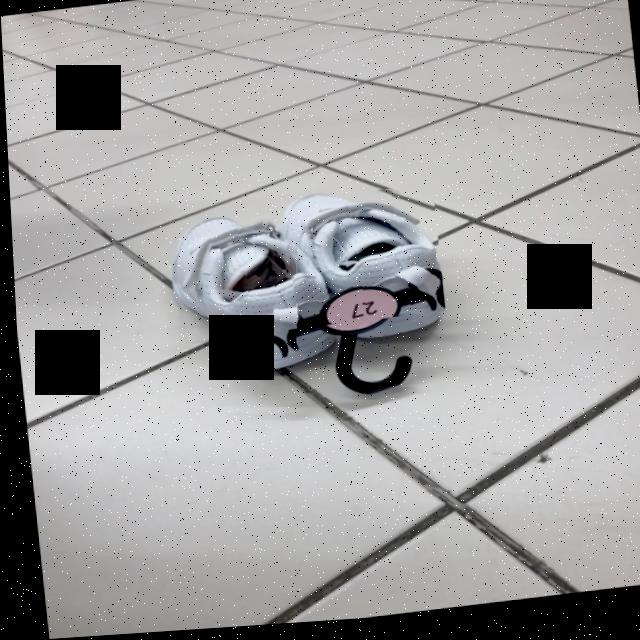shoe: (281, 200, 442, 318), (172, 225, 291, 339)
